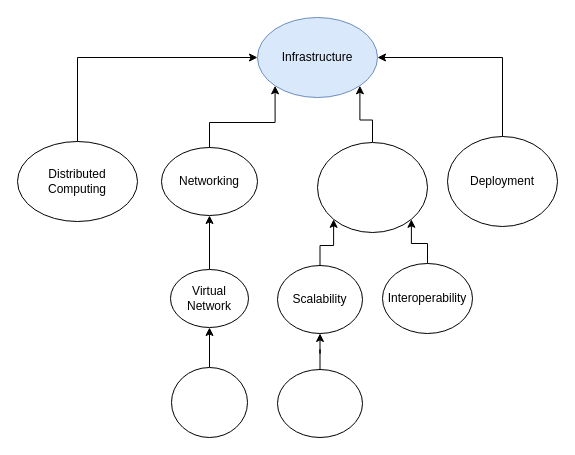
The diagram is 575 pixels wide and 455 high, and some of its shapes have lost their labels. Here are the shapes that lost their labels. From the top down, the box of each, then its label:
(316, 142, 428, 232): Quality Requirements
(170, 366, 248, 438): Private Endpoints
(276, 368, 362, 438): Autoscaling
